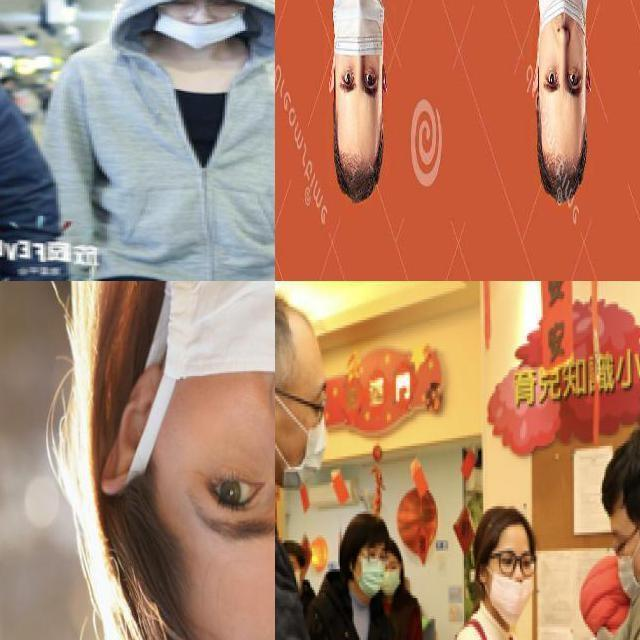hairnet: (156, 10, 246, 51), (535, 0, 585, 52), (485, 563, 532, 616)
